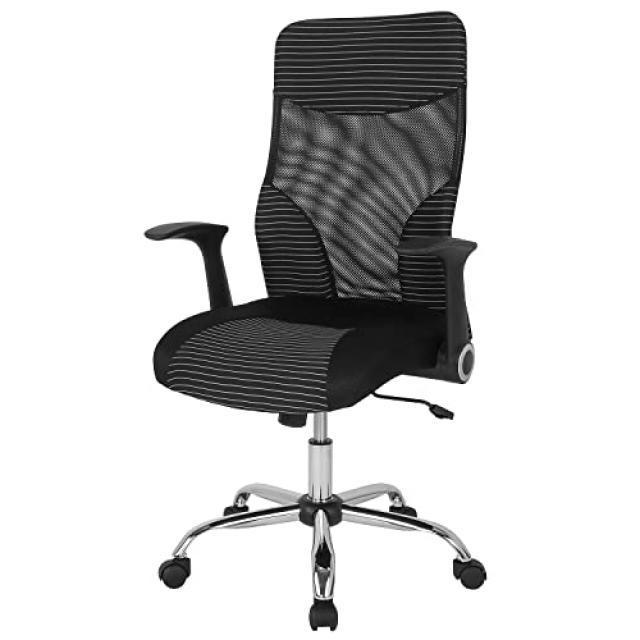chair: (86, 3, 523, 640)
